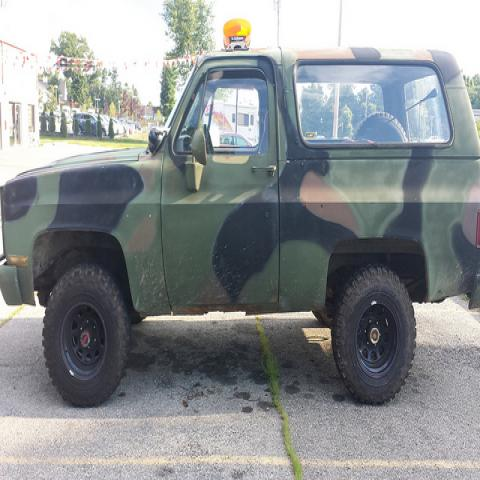car: (74, 112, 109, 137), (113, 120, 124, 134)
truck: (1, 25, 479, 411)
